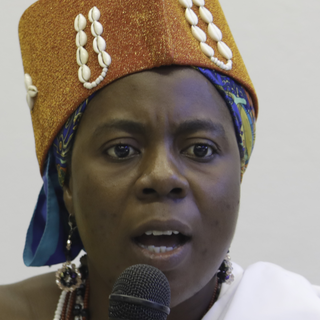eye: (180, 139, 224, 164), (100, 139, 143, 164)
